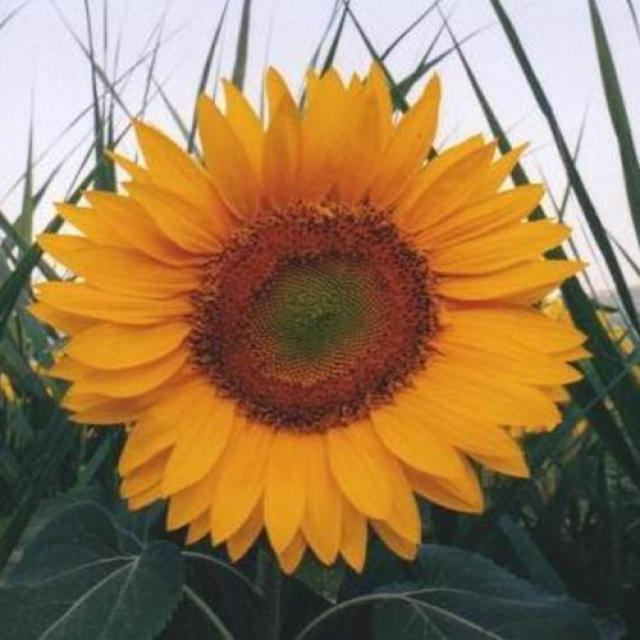sunflower: (28, 57, 600, 574)
